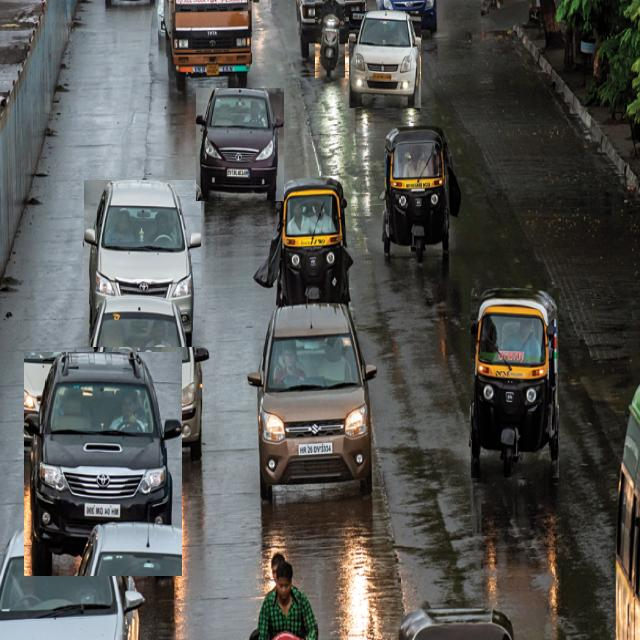autorickshaw: (471, 288, 559, 478), (254, 179, 352, 306), (380, 128, 461, 262)
car: (24, 352, 182, 576), (249, 306, 375, 500), (84, 181, 201, 347), (98, 298, 209, 460), (196, 88, 284, 201), (349, 12, 421, 108)
motorcycle: (316, 0, 345, 78)
